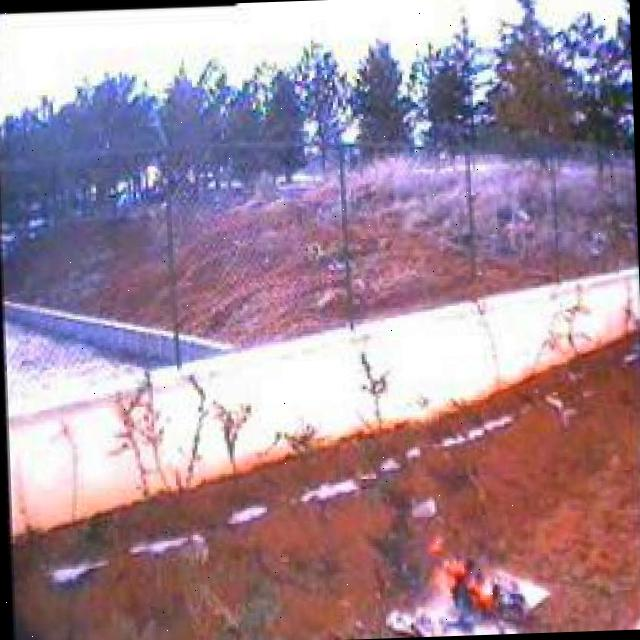fire: (424, 530, 514, 630)
